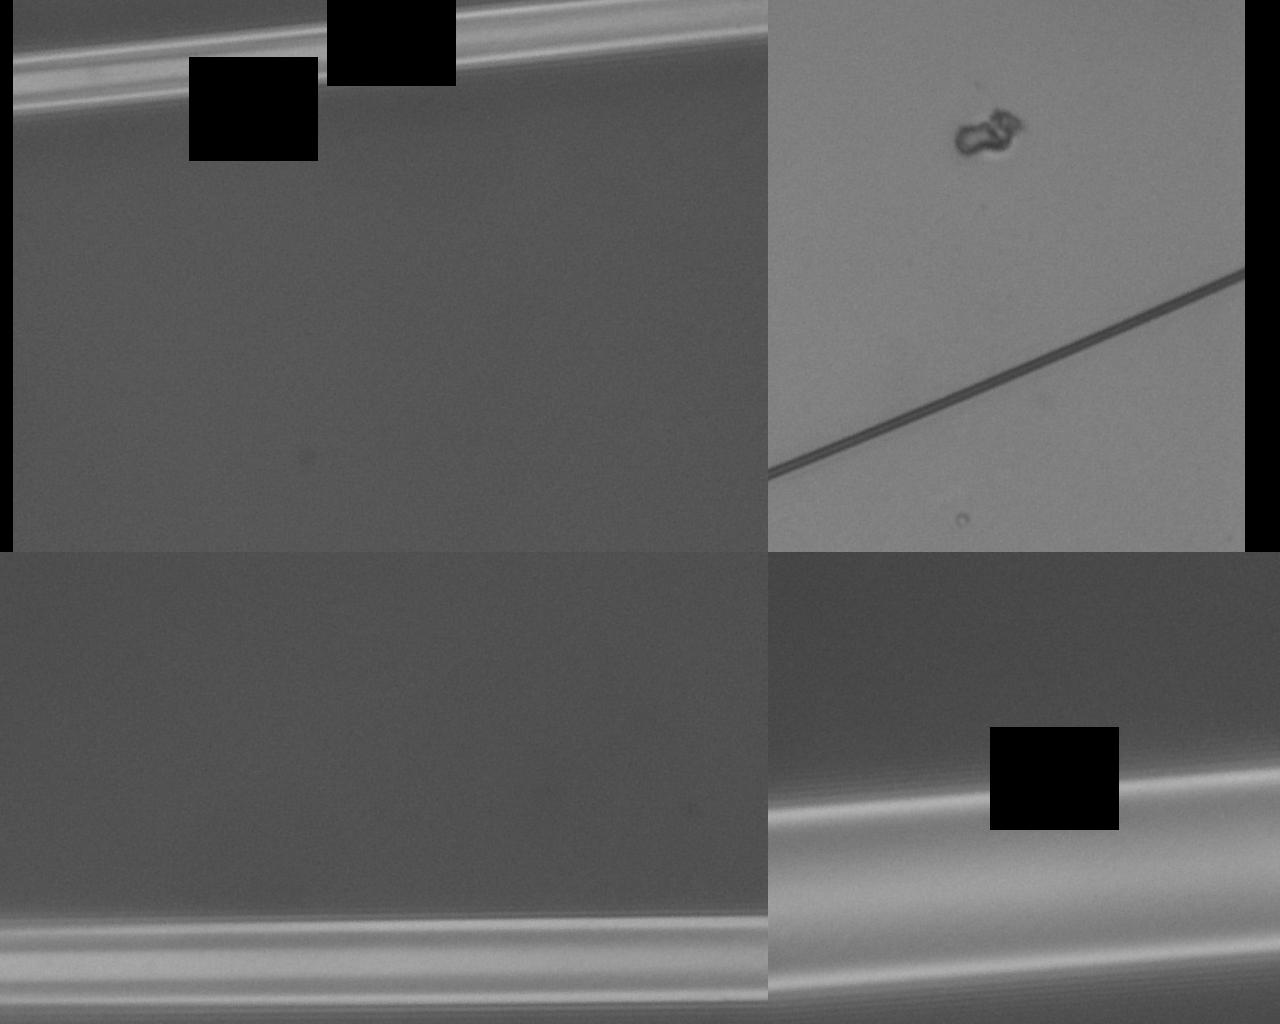fiber: (209, 0, 559, 757), (0, 757, 389, 1024), (987, 830, 1280, 1024), (1180, 0, 1211, 757)
